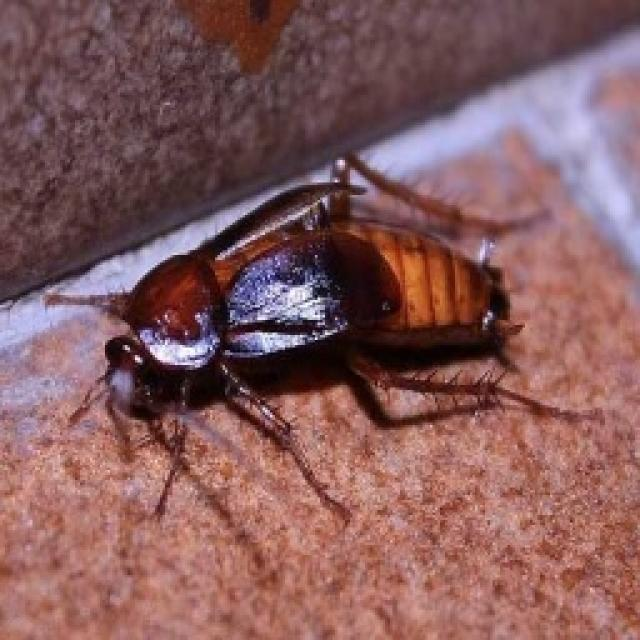cockroach: (41, 148, 602, 543)
